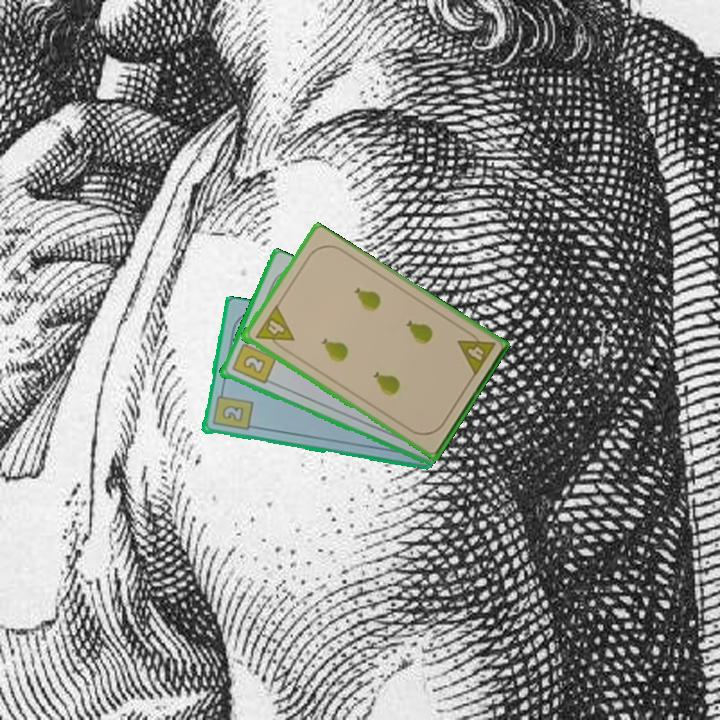2b: (228, 335, 278, 387), (209, 387, 255, 433)
4p: (453, 326, 498, 379), (251, 303, 296, 354)
